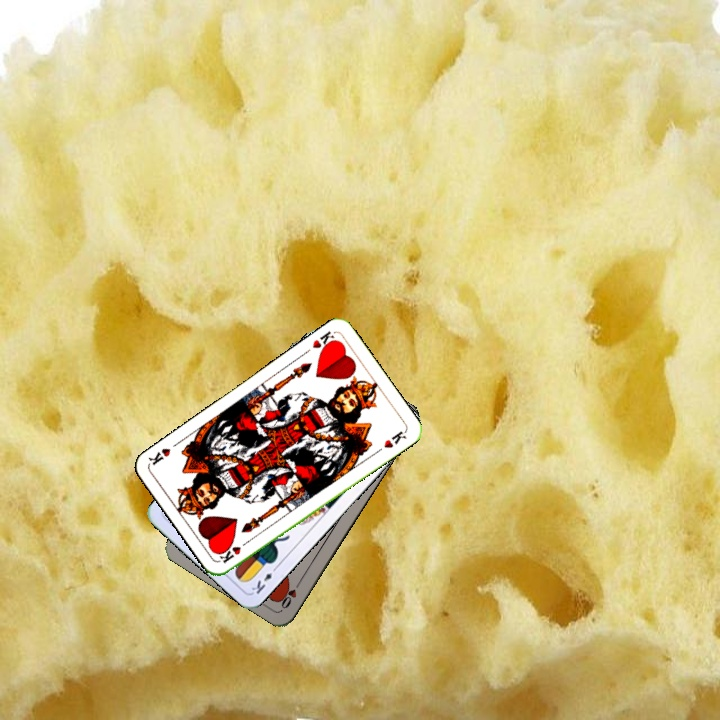EK: (248, 562, 281, 597)
HK: (215, 536, 252, 566), (308, 327, 340, 355)
HO: (276, 575, 304, 611)
